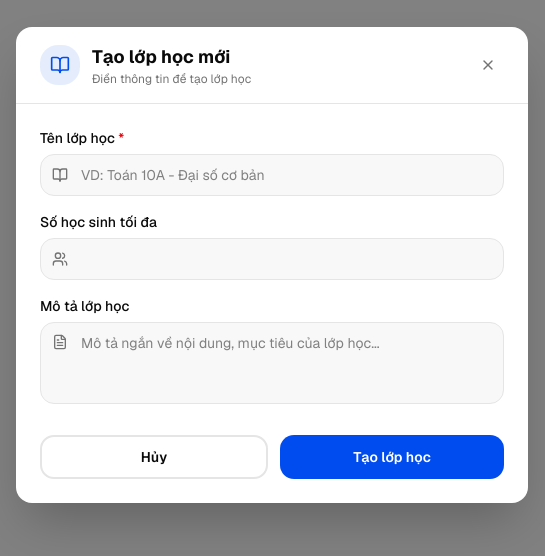
Test case: CreateClassModal Component › shows validation errors if fields are empty and submitted
# Find the submit button
Click the button "Tạo lớp học". click: click(392, 457)
box: [280, 435, 504, 479]
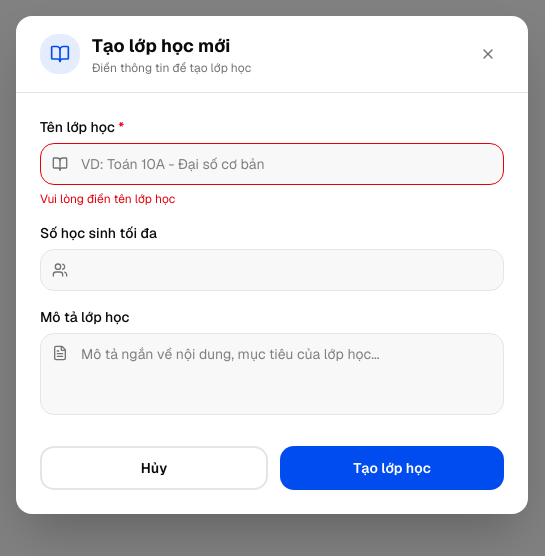
Result: the text "Vui lòng điền tên lớp học" is shown at [40, 191, 175, 207]
